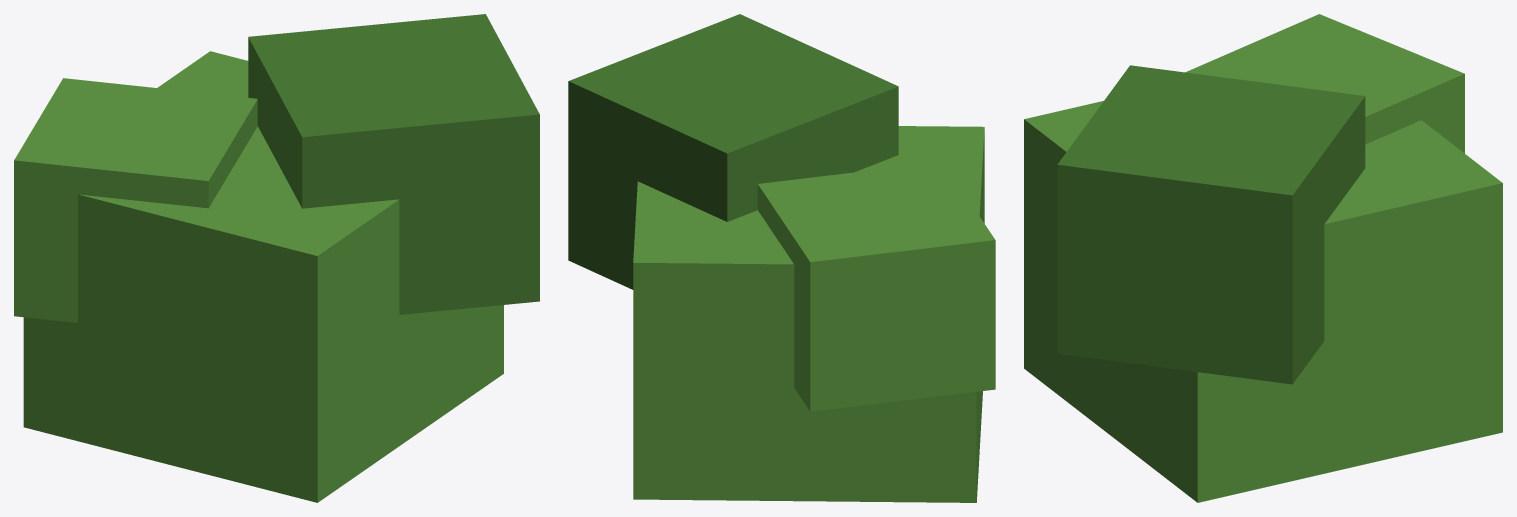
Rendered from bush.glb.
3 views of the same model, side by side, from view 1: azimuth 30°, elevation 25°; view 2: azimuth 150°, elevation 25°; view 3: azimuth 270°, elevation 25° (orthographic). The views are drawn at different scales.
Bounding box in the file's own units: 1.85 × 1.23 × 1.65.
